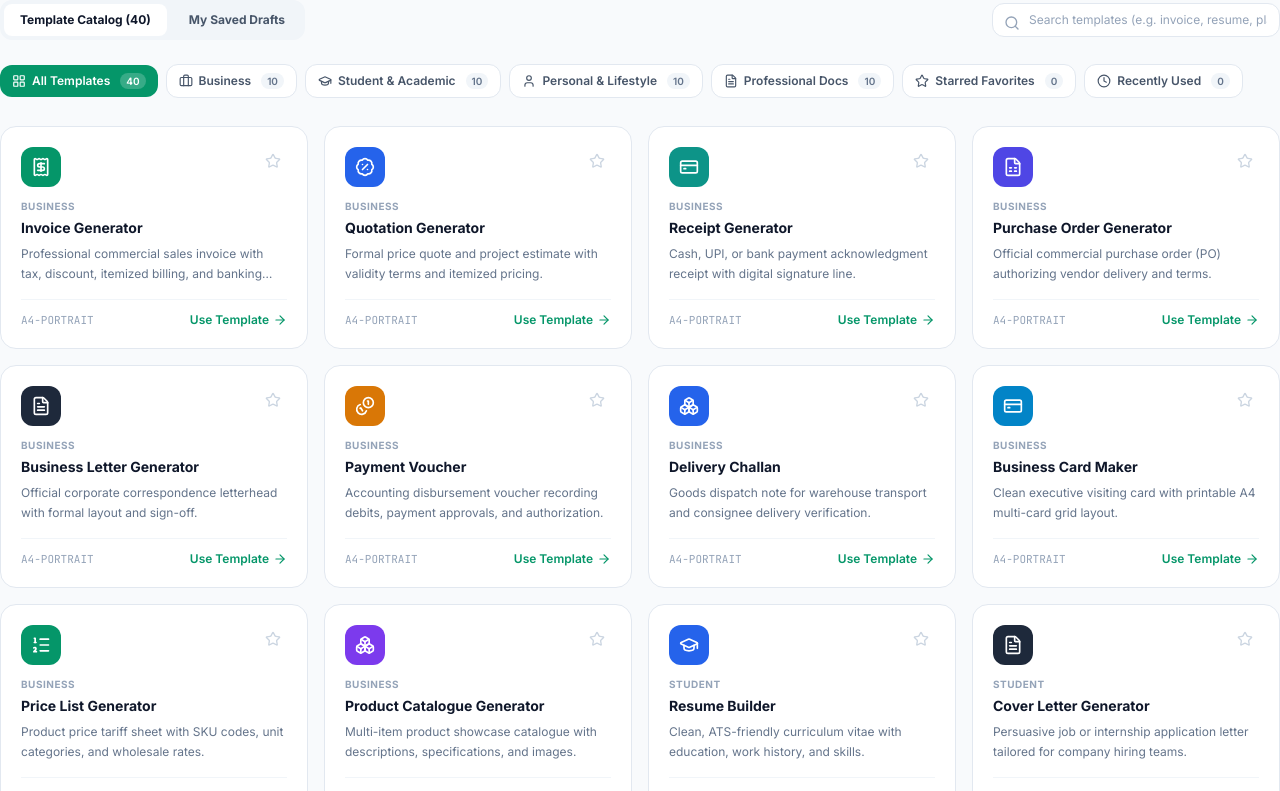
Test: Templates & Document Creator Test Suite › 5. Template Library Catalog & Filtering UI › switches to Saved Drafts tab and shows empty state when none exist
The width and height of the screenshot is (1280, 791).
Step 1. Click the button "My Saved Drafts" → point(237, 20), box [173,4,301,36]
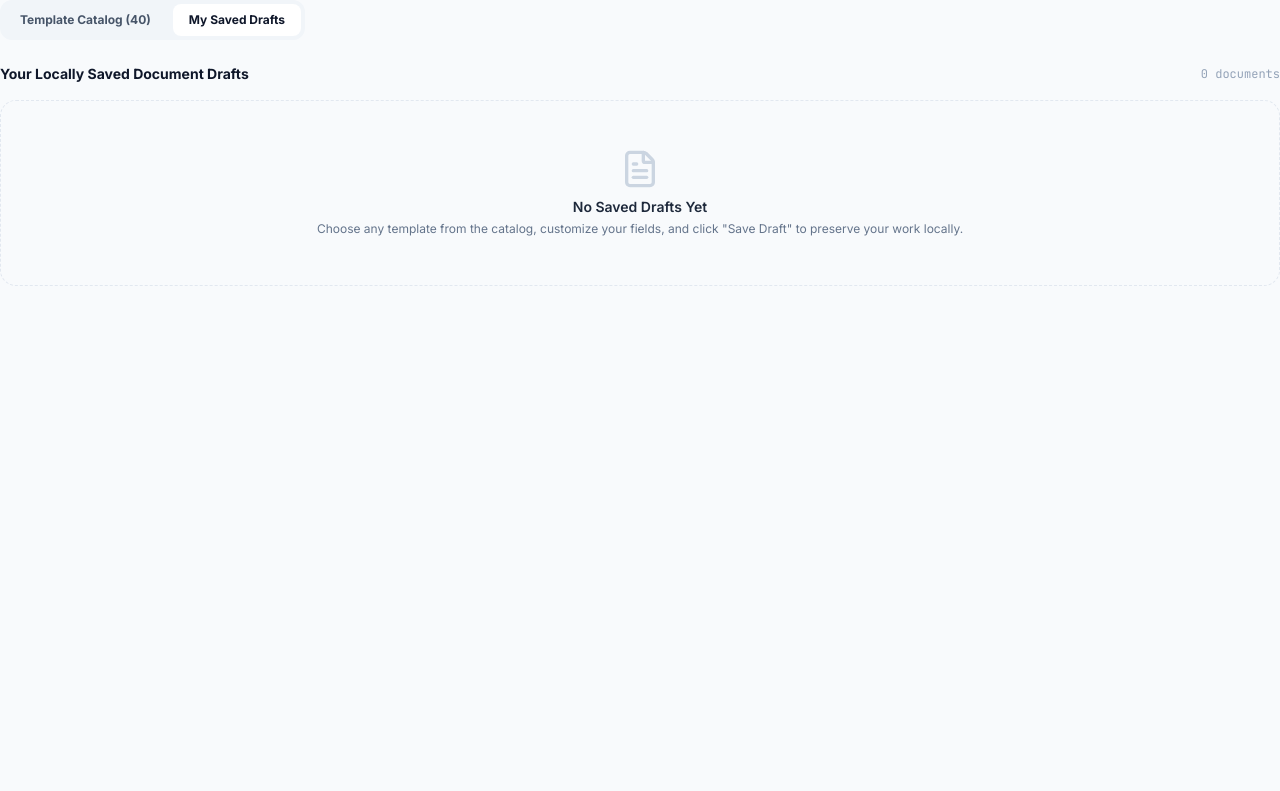
Check: the heading "No Saved Drafts Yet" is shown, box [573,198,707,215]
